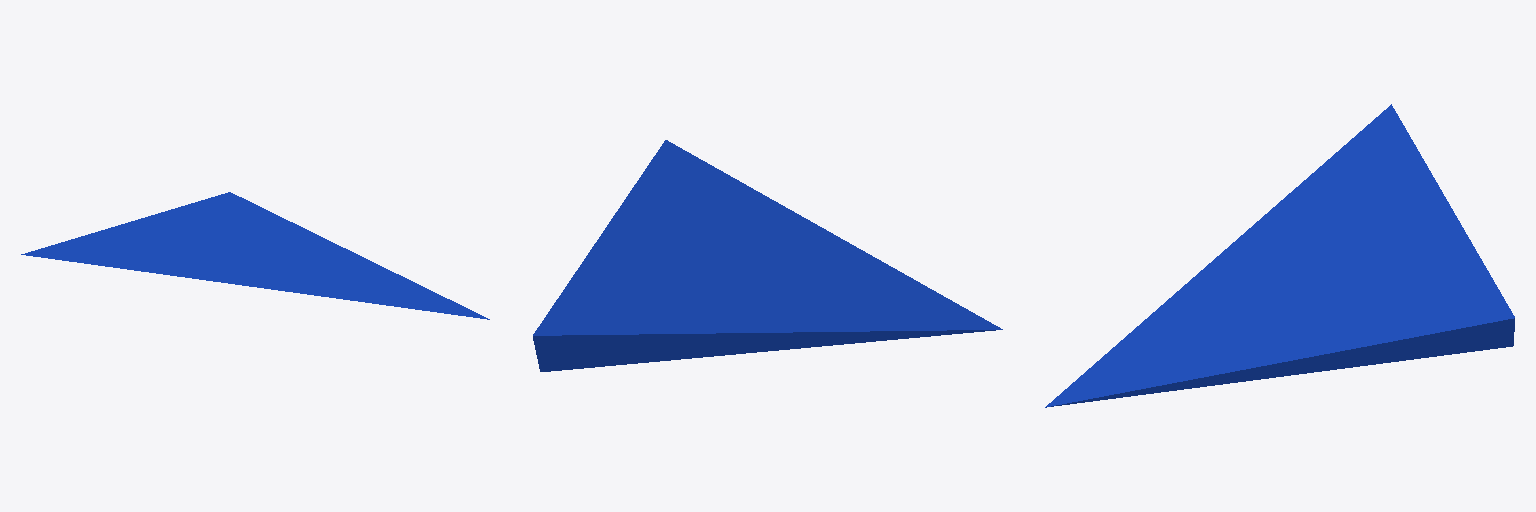
URDF robot description (mesh_slider):
<?xml version="1.0"?>
<robot name="mesh_slider">
  <material name="slider_blue"><color rgba="0.15 0.35 0.8 1"/></material>
  <link name="base_link"/>
  <link name="carriage">
    <visual name="mirrored_wedge">
      <origin xyz="0.2 -0.1 0.15" rpy="0.2 0 0.3"/>
      <geometry><mesh filename="package://robot_preview/meshes/wedge.stl" scale="-2 3 0.5"/></geometry>
      <material name="slider_blue"/>
    </visual>
    <collision name="wedge_proxy">
      <origin xyz="0.1 0.2 0.3" rpy="0 0.4 0"/>
      <geometry><mesh filename="robot_preview/meshes/wedge.stl"/></geometry>
    </collision>
  </link>
  <link name="tool"/>
  <joint name="slide" type="prismatic">
    <parent link="base_link"/><child link="carriage"/>
    <origin xyz="0.1 0.2 0.3" rpy="0 0 1.5707963267948966"/>
    <axis xyz="1 0 0"/>
    <limit lower="0" upper="0.4" effort="20" velocity="0.5"/>
  </joint>
  <joint name="tool_mount" type="fixed">
    <parent link="carriage"/><child link="tool"/>
    <origin xyz="0.05 0 -0.1" rpy="0.1 0.2 0.3"/>
  </joint>
</robot>

--- Render facts (derived) ---
3 views of the same robot in one strip: view 1: azimuth 30°, elevation 25°; view 2: azimuth 150°, elevation 25°; view 3: azimuth 270°, elevation 25° (orthographic).
Model mesh_slider with 3 links and 2 joints (1 prismatic, 1 fixed), rooted at base_link, posed every joint at zero.
Links seen in each view (by area): view 1: carriage; view 2: carriage; view 3: carriage.
Boxes of the visible links, x1=… form: carriage: x1=21, y1=192, x2=489, y2=319; carriage: x1=533, y1=140, x2=1002, y2=371; carriage: x1=1045, y1=104, x2=1514, y2=407.
Bounding box of the posed robot: 0.7686 × 0.6717 × 0.1192 m (x, y, z).
1 mesh visuals loaded from 1 distinct referenced files (1 ASCII STL).
